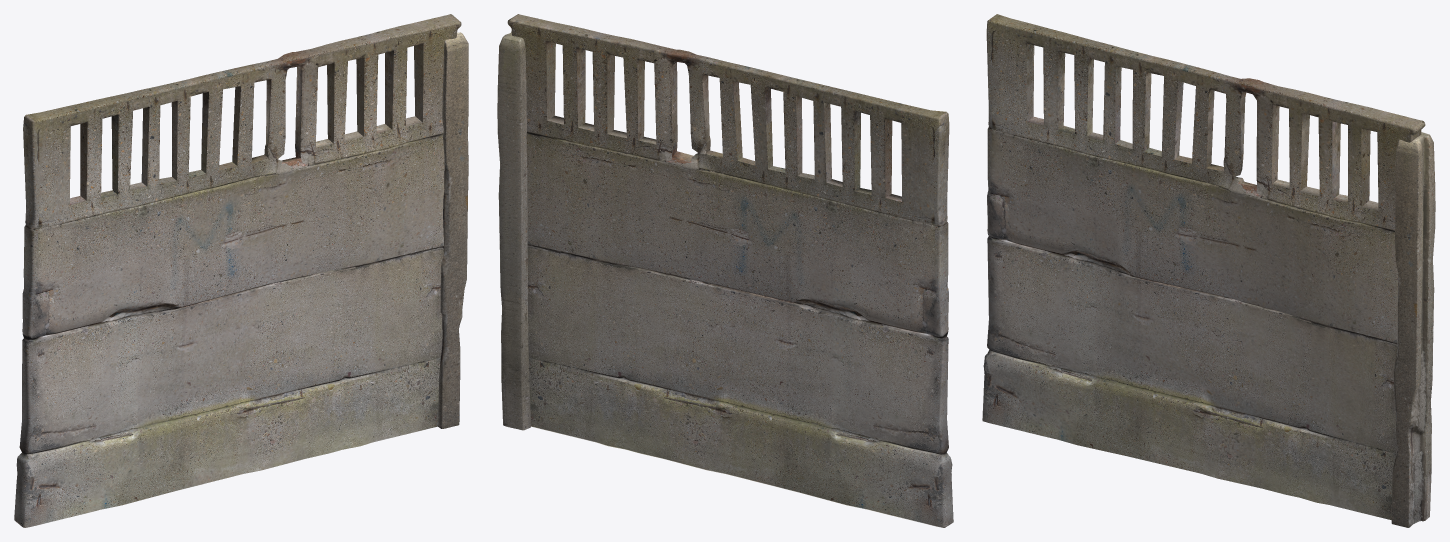
The model's file is sm_ConcreteFence_01_02.fbx.
3 views of the same model, side by side, from view 1: azimuth 30°, elevation 25°; view 2: azimuth 150°, elevation 25°; view 3: azimuth 330°, elevation 25° (orthographic).
Parts seen in each view (by area): view 1: sm_ConcreteFence_01_02_LOD0; view 2: sm_ConcreteFence_01_02_LOD0; view 3: sm_ConcreteFence_01_02_LOD0.
Part boxes in pixels (box(x1,y1,x2,y2)): sm_ConcreteFence_01_02_LOD0: box(14, 14, 468, 527); sm_ConcreteFence_01_02_LOD0: box(497, 14, 953, 527); sm_ConcreteFence_01_02_LOD0: box(982, 14, 1435, 527).
Bounding box in the file's own units: 17.21 × 223 × 195.
